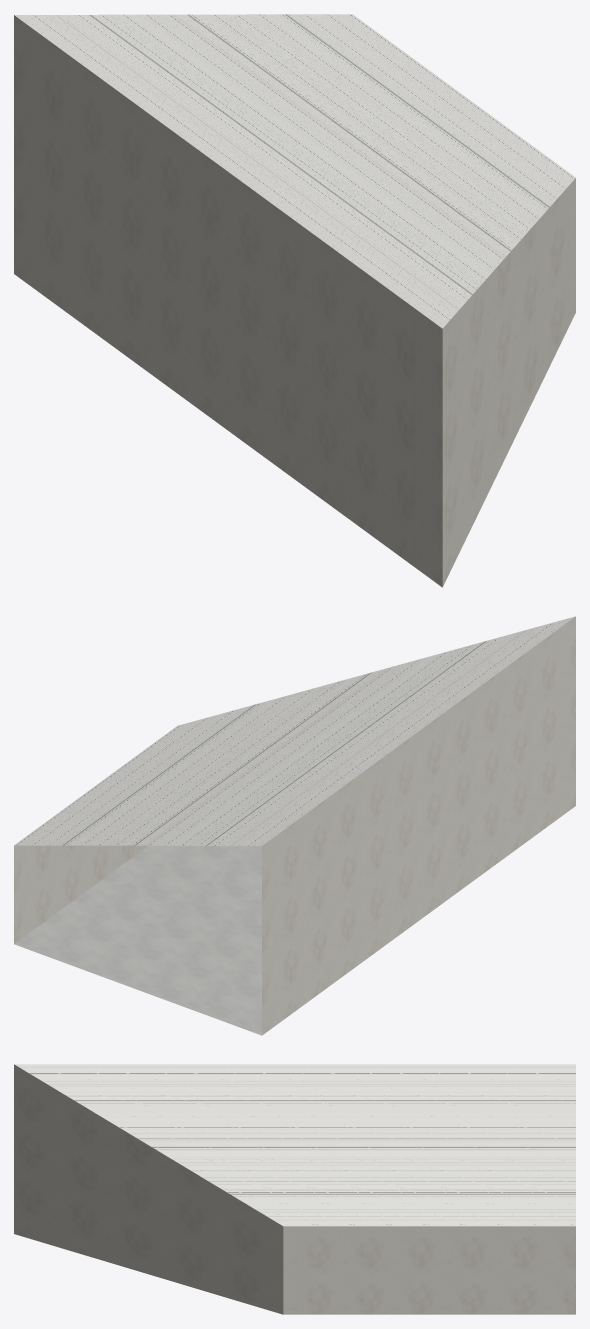
The picture shows the model from 3 angles, top to bottom: view 1: azimuth 30°, elevation 25°; view 2: azimuth 150°, elevation 25°; view 3: azimuth 270°, elevation 25°; orthographic projection. The views are drawn at different scales.
Parts seen in each view (by area): view 1: jx_am_3e704905; view 2: jx_am_3e704905; view 3: jx_am_3e704905.
Boxes of the visible parts, x1,y1,x2,y2 form: jx_am_3e704905: (14,14,575,587); jx_am_3e704905: (14,616,575,1035); jx_am_3e704905: (14,1064,575,1314).
Bounding box in the file's own units: 9.99 × 7.3 × 21.9.
3 materials, 3 textured.
